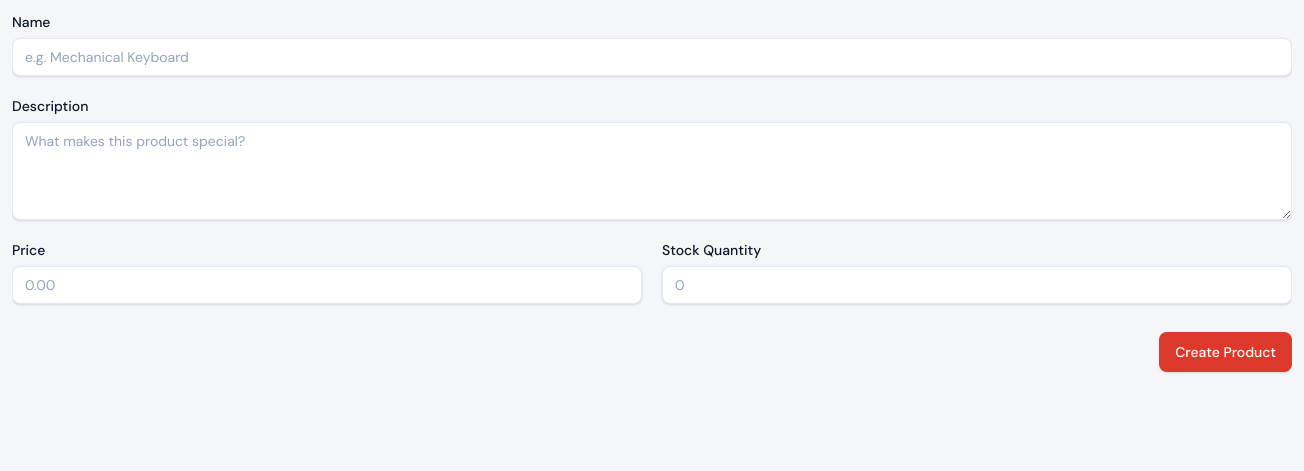
Test: ProductForm › shows validation errors and does not submit when fields are empty
Click the button "Create Product" at (1226, 352), box 1159,332 -> 1292,372
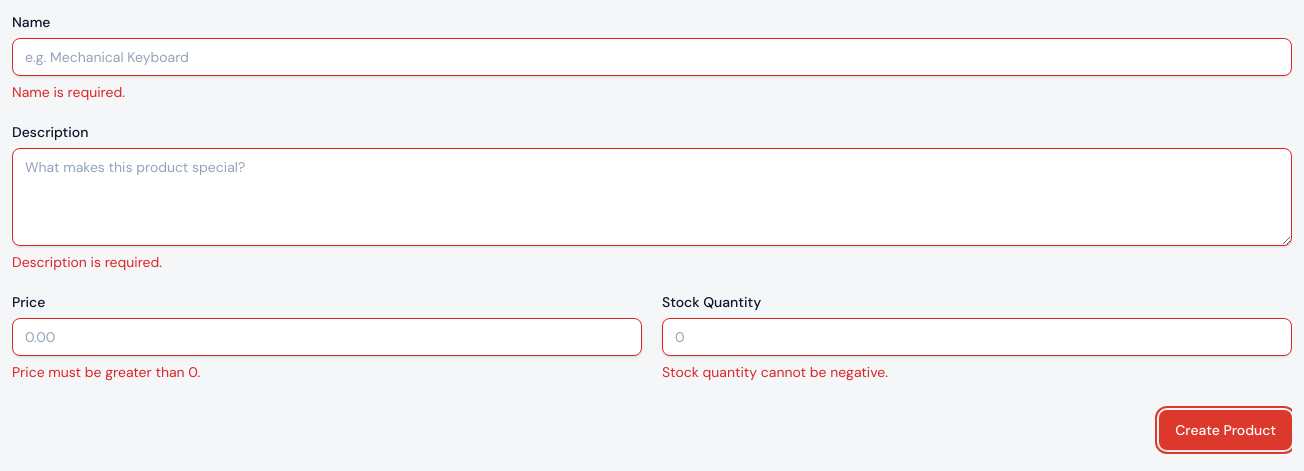
Expected: the text "Name is required." is shown, 12,83 -> 125,101
Expected: the text "Description is required." is shown, 12,253 -> 162,271
